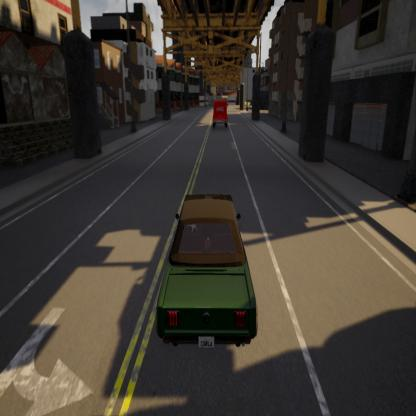Cars: (150, 176, 266, 381), (206, 92, 233, 145)
